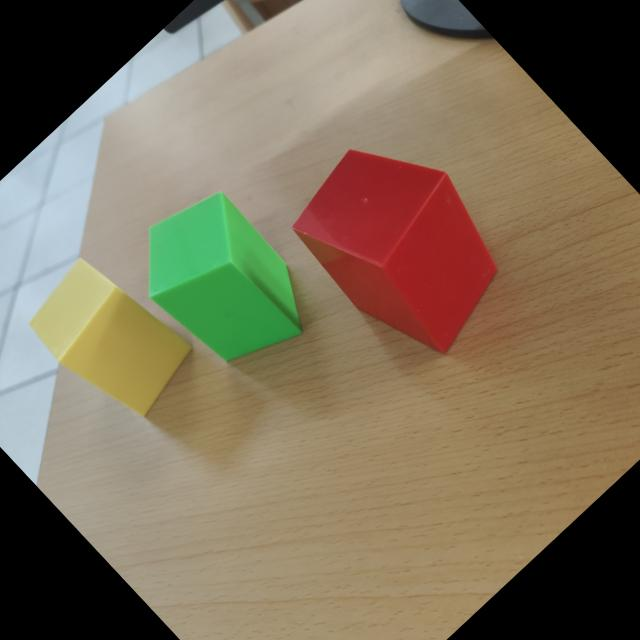green: (149, 193, 304, 363)
red: (293, 148, 500, 356)
yellow: (31, 259, 193, 417)
